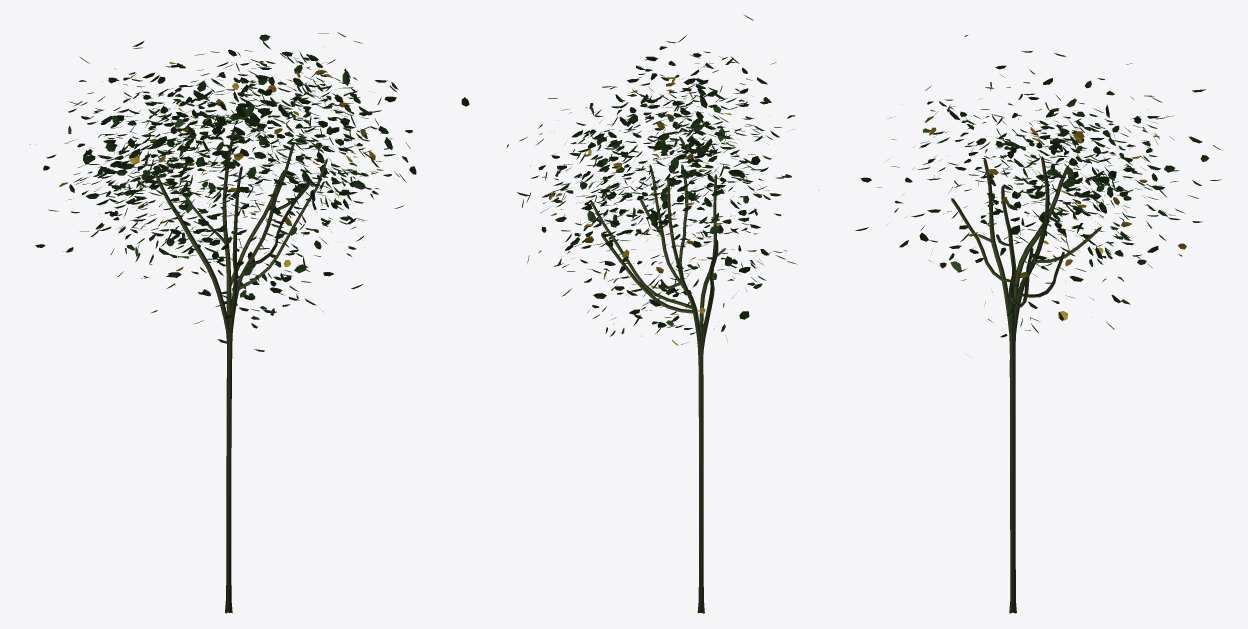
The model's file is SM_Tree_garden_rose_3.glb.
3 views of the same model, side by side, from view 1: azimuth 30°, elevation 25°; view 2: azimuth 150°, elevation 25°; view 3: azimuth 270°, elevation 25° (orthographic). The views are drawn at different scales.
Visible parts, largest first — view 1: SM_Tree_garden_rose_3; view 2: SM_Tree_garden_rose_3; view 3: SM_Tree_garden_rose_3.
Boxes of the visible parts, box(x1,y1,x2,y2) form: SM_Tree_garden_rose_3: box(30, 32, 469, 613); SM_Tree_garden_rose_3: box(506, 14, 797, 613); SM_Tree_garden_rose_3: box(855, 35, 1221, 613).
Bounding box in the file's own units: 1.57 × 2.56 × 1.48.
